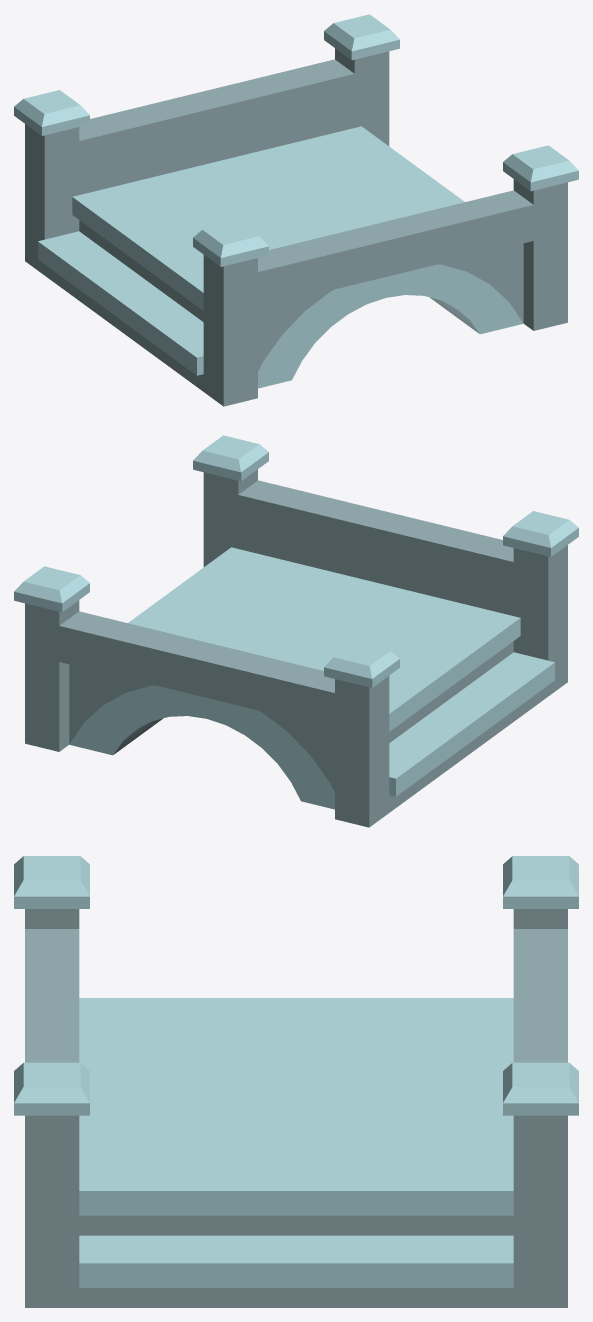
3 views of the same model, one above another, from view 1: azimuth 30°, elevation 25°; view 2: azimuth 150°, elevation 25°; view 3: azimuth 270°, elevation 25° (orthographic). The views are drawn at different scales.
Visible parts, largest first — view 1: bridge_stoneRound; view 2: bridge_stoneRound; view 3: bridge_stoneRound.
Part boxes in pixels (bbox=[...]): bridge_stoneRound: bbox=[14, 14, 578, 406]; bridge_stoneRound: bbox=[14, 435, 578, 827]; bridge_stoneRound: bbox=[14, 856, 578, 1307].
Bounding box in the file's own units: 1.04 × 0.45 × 1.04.
